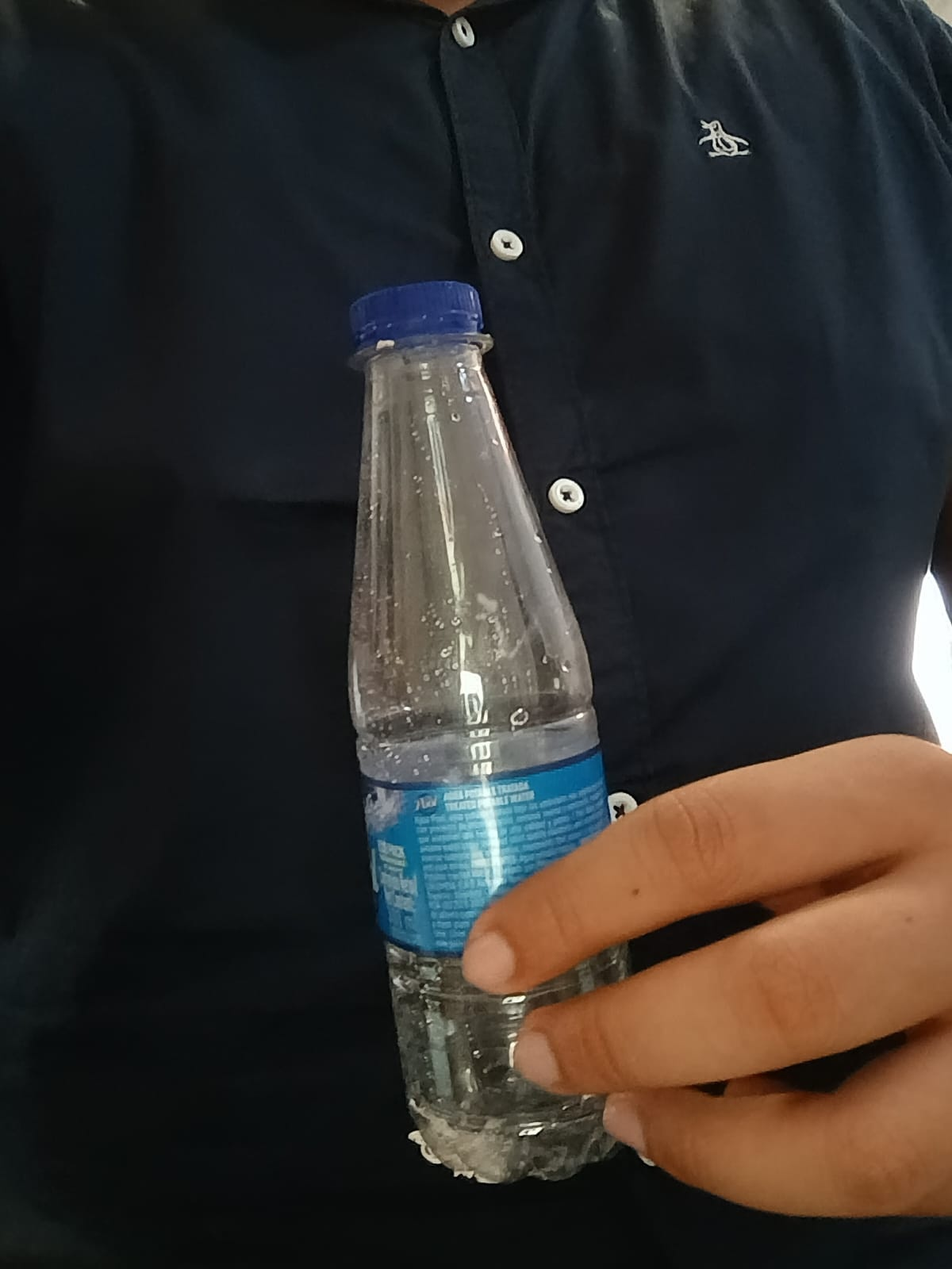Plastico: (347, 285, 634, 1182)
